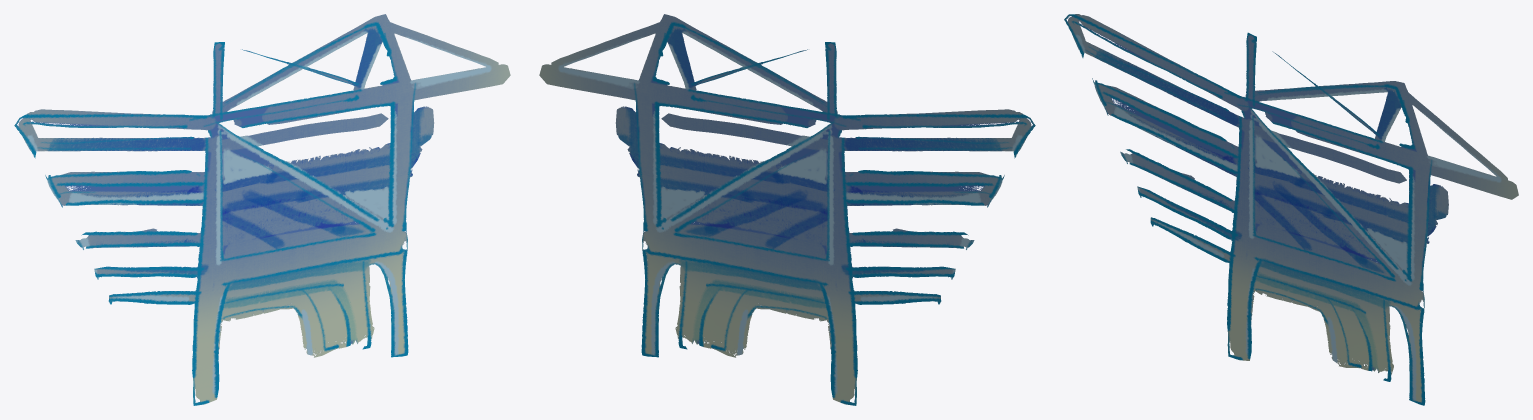
The model's file is machine.fbx.
The picture shows the model from 3 angles, left to right: view 1: azimuth 30°, elevation 25°; view 2: azimuth 150°, elevation 25°; view 3: azimuth 330°, elevation 25°; orthographic projection. The views are drawn at different scales.
Parts seen in each view (by area): view 1: mask29; view 2: mask29; view 3: mask29.
Boxes of the visible parts, box(x1,y1,x2,y2) form: mask29: box(14, 14, 510, 405); mask29: box(539, 14, 1035, 405); mask29: box(1064, 14, 1518, 405).
Bounding box in the file's own units: 14.44 × 10.02 × 1.53e-07.
1 material, 1 textured.
